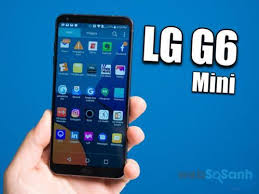lg: (47, 11, 135, 182)
